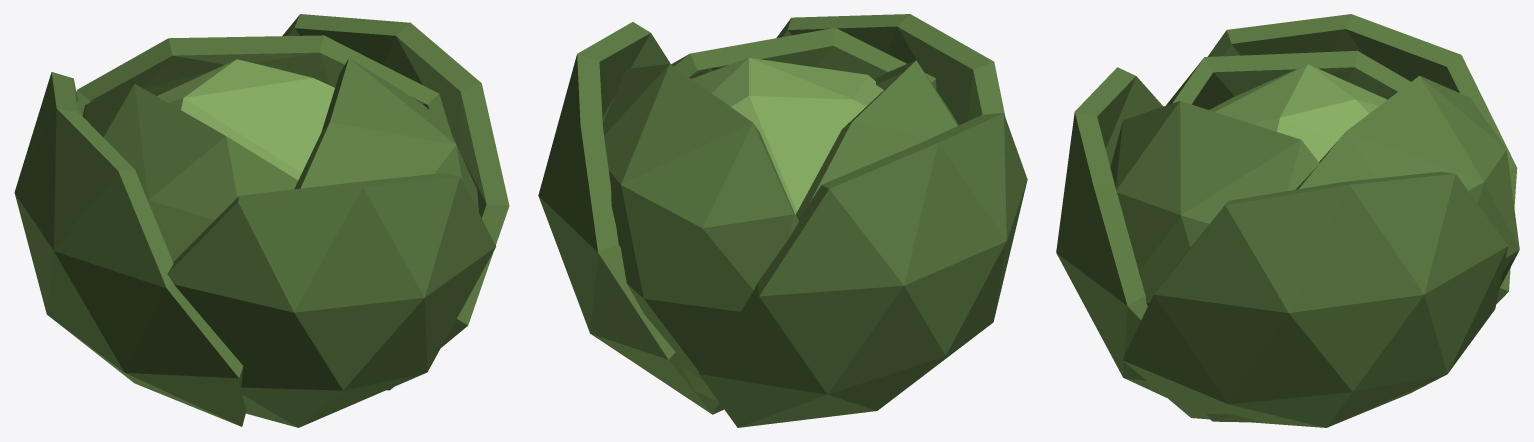
File: Cabbage_01.fbx
3 renders of one model, left to right at view 1: azimuth 30°, elevation 25°; view 2: azimuth 150°, elevation 25°; view 3: azimuth 270°, elevation 25°, orthographic. The views are drawn at different scales.
Visible parts, largest first — view 1: Cabbage_01; view 2: Cabbage_01; view 3: Cabbage_01.
Boxes of the visible parts, x1=… form: Cabbage_01: x1=14, y1=14, x2=509, y2=427; Cabbage_01: x1=538, y1=14, x2=1027, y2=427; Cabbage_01: x1=1056, y1=14, x2=1519, y2=427.
Size of the model in its own units: 21.35 by 15.25 by 20.28.
